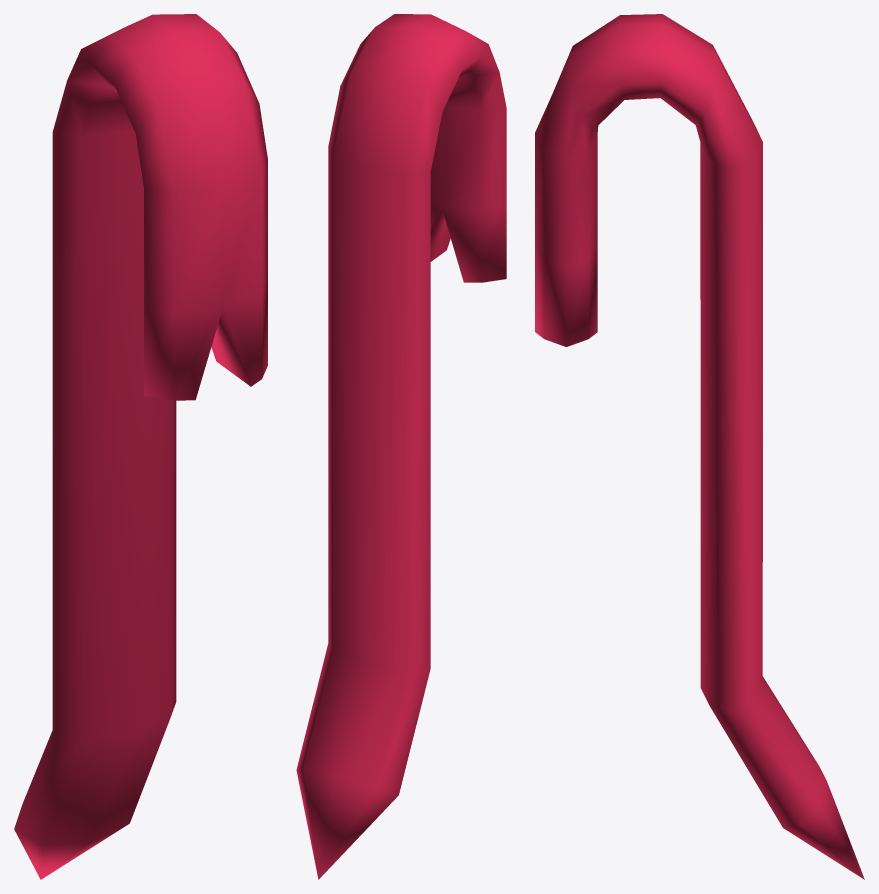
File: crowbar.gltf.glb
The picture shows the model from 3 angles, left to right: view 1: azimuth 30°, elevation 25°; view 2: azimuth 150°, elevation 25°; view 3: azimuth 270°, elevation 25°; orthographic projection. The views are drawn at different scales.
Parts seen in each view (by area): view 1: crowbar; view 2: crowbar; view 3: crowbar.
Part boxes in pixels (x1,y1,x2,y2): crowbar: [14, 14, 267, 879]; crowbar: [296, 14, 506, 879]; crowbar: [535, 14, 864, 879].
Size of the model in its own units: 0.1165 by 0.8516 by 0.2975.
